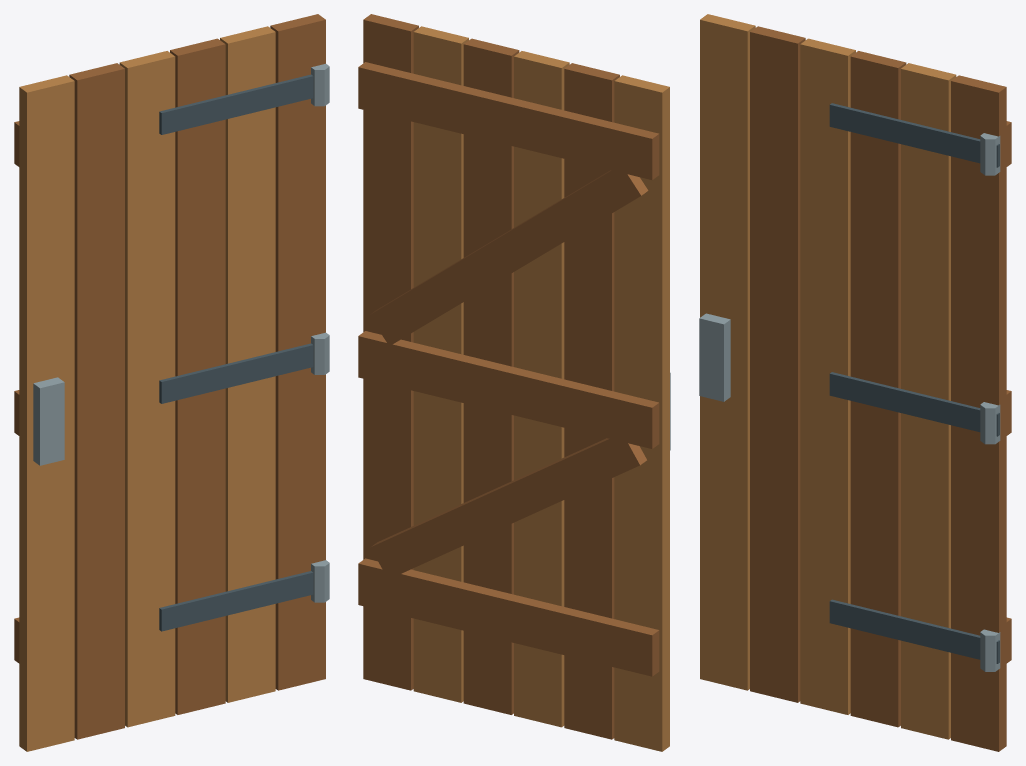
File: gate_double_leaf_right.glb
The picture shows the model from 3 angles, left to right: view 1: azimuth 30°, elevation 25°; view 2: azimuth 150°, elevation 25°; view 3: azimuth 330°, elevation 25°; orthographic projection.
Visible parts, largest first — view 1: Gate_R_Board_5, Gate_R_Board_4, Gate_R_Board_3, Gate_R_Board_2, Gate_R_Board_1, Gate_R_Board_0, Gate_R_Strap_0, Gate_R_Strap_1, Gate_R_Strap_2, Gate_R_Latch, Gate_R_Knuckle_2, Gate_R_Knuckle_0 (+1 smaller); view 2: Gate_R_Board_5, Gate_R_Board_0, Gate_R_Board_4, Gate_R_Board_3, Gate_R_Board_2, Gate_R_Board_1, Gate_R_Rail_2, Gate_R_Rail_1, Gate_R_Rail_0, Gate_R_Brace_1, Gate_R_Brace_0; view 3: Gate_R_Board_4, Gate_R_Board_0, Gate_R_Board_3, Gate_R_Board_5, Gate_R_Board_2, Gate_R_Board_1, Gate_R_Strap_2, Gate_R_Strap_1, Gate_R_Strap_0, Gate_R_Latch, Gate_R_Knuckle_1, Gate_R_Knuckle_2 (+1 smaller).
Part boxes in pixels (<box>): Gate_R_Board_5: <box>19,75,74,751</box>; Gate_R_Board_4: <box>69,63,124,739</box>; Gate_R_Board_3: <box>119,51,175,727</box>; Gate_R_Board_2: <box>170,38,225,714</box>; Gate_R_Board_1: <box>220,26,275,702</box>; Gate_R_Board_0: <box>270,14,325,690</box>; Gate_R_Strap_0: <box>159,571,313,631</box>; Gate_R_Strap_1: <box>159,343,313,403</box>; Gate_R_Strap_2: <box>159,74,313,134</box>; Gate_R_Latch: <box>33,377,64,465</box>; Gate_R_Knuckle_2: <box>311,63,329,106</box>; Gate_R_Knuckle_0: <box>311,560,329,602</box>; Gate_R_Board_5: <box>614,75,669,751</box>; Gate_R_Board_0: <box>363,14,418,690</box>; Gate_R_Board_4: <box>564,63,619,739</box>; Gate_R_Board_3: <box>514,51,569,727</box>; Gate_R_Board_2: <box>463,38,519,714</box>; Gate_R_Board_1: <box>413,26,468,702</box>; Gate_R_Rail_2: <box>358,62,659,179</box>; Gate_R_Rail_1: <box>358,331,659,448</box>; Gate_R_Rail_0: <box>358,558,659,676</box>; Gate_R_Brace_1: <box>369,165,648,345</box>; Gate_R_Brace_0: <box>370,433,646,579</box>; Gate_R_Board_4: <box>750,26,805,702</box>; Gate_R_Board_0: <box>951,75,1006,751</box>; Gate_R_Board_3: <box>800,38,855,714</box>; Gate_R_Board_5: <box>700,14,755,690</box>; Gate_R_Board_2: <box>850,51,906,727</box>; Gate_R_Board_1: <box>901,63,956,739</box>; Gate_R_Strap_2: <box>829,103,999,167</box>; Gate_R_Strap_1: <box>829,372,999,436</box>; Gate_R_Strap_0: <box>829,599,999,663</box>; Gate_R_Latch: <box>699,313,730,401</box>; Gate_R_Knuckle_1: <box>980,402,1000,444</box>; Gate_R_Knuckle_2: <box>980,133,1000,175</box>.
Size of the model in its own units: 1.22 by 2.55 by 0.155.
